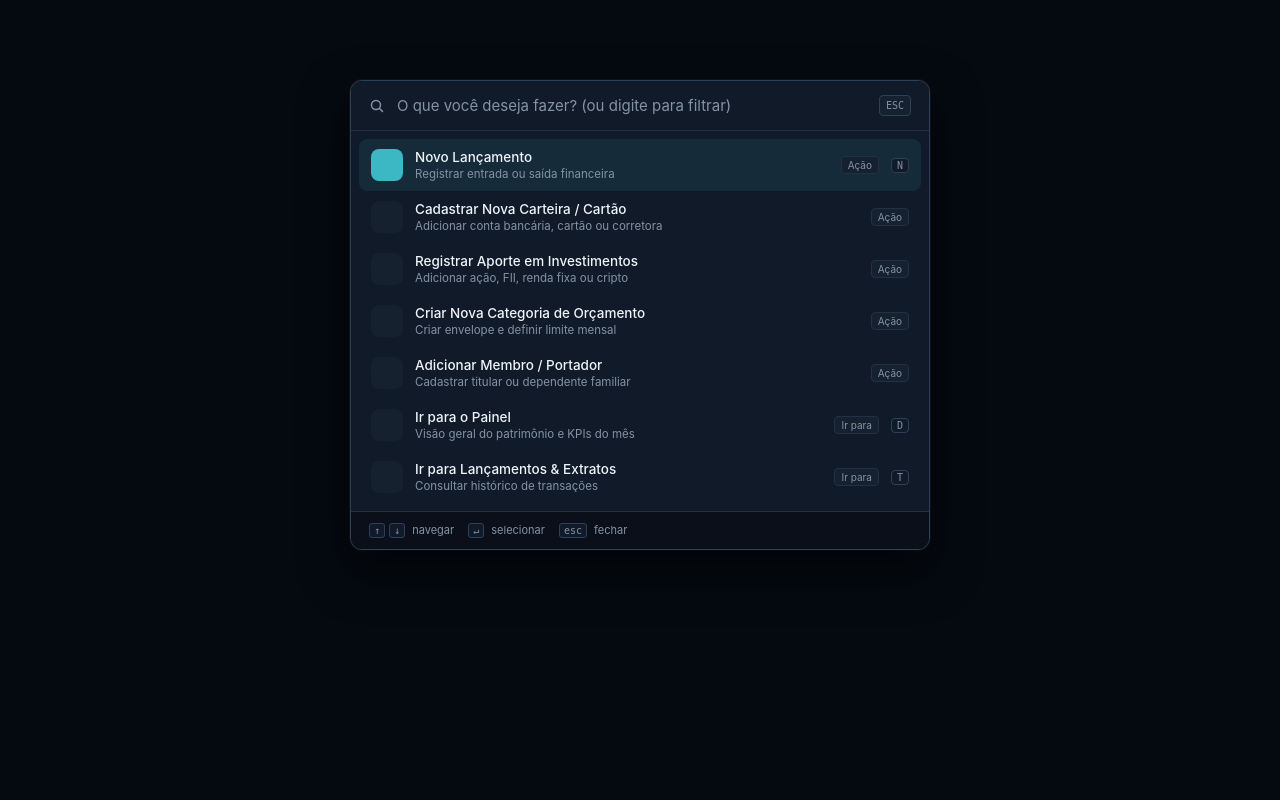
Test: CommandPalette.vue › filtra comandos dinamicamente de acordo com o texto digitado
The width and height of the screenshot is (1280, 800).
Type "invest" into the dropdown with class "cp-input" at {"x": 632, "y": 106}, box [397,96,867,115]
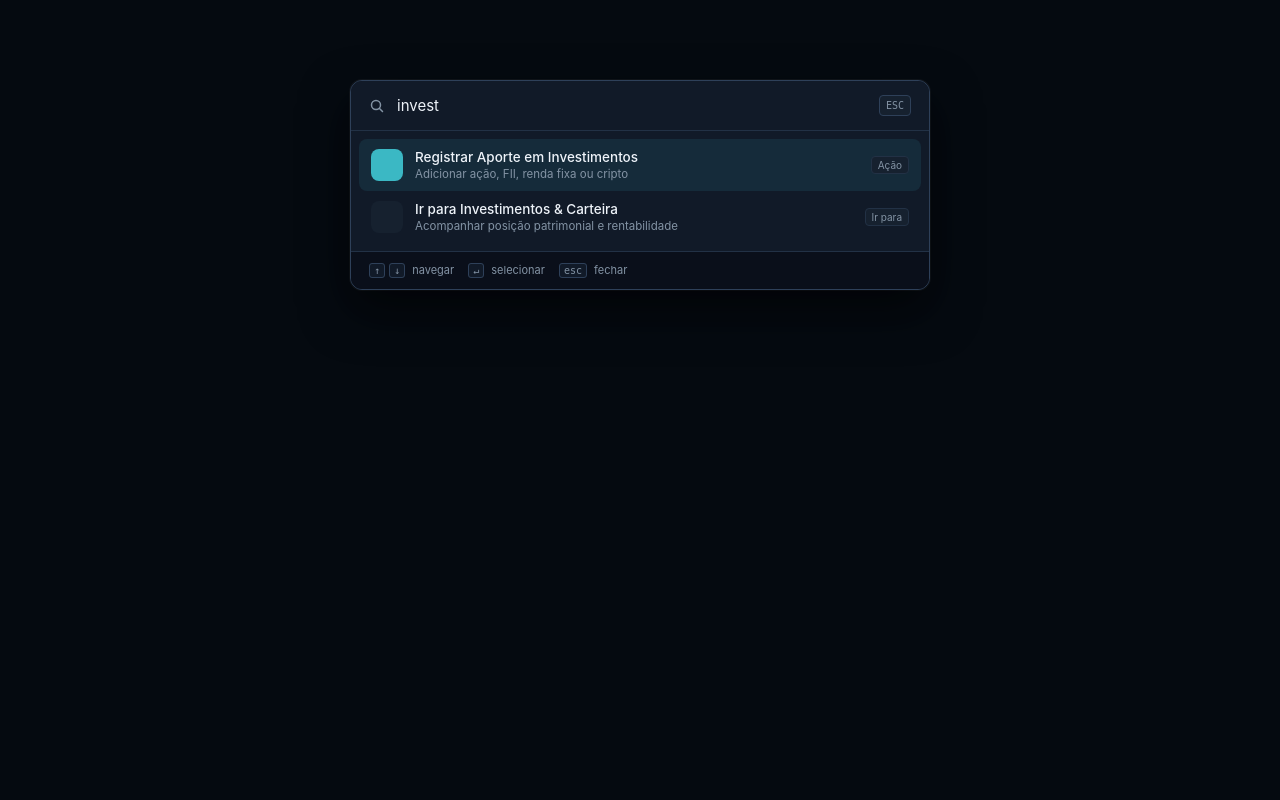
Expected: the text "Investimentos" is shown, [415,149,638,165]
Now the text "Novo Lançamento" is gone
